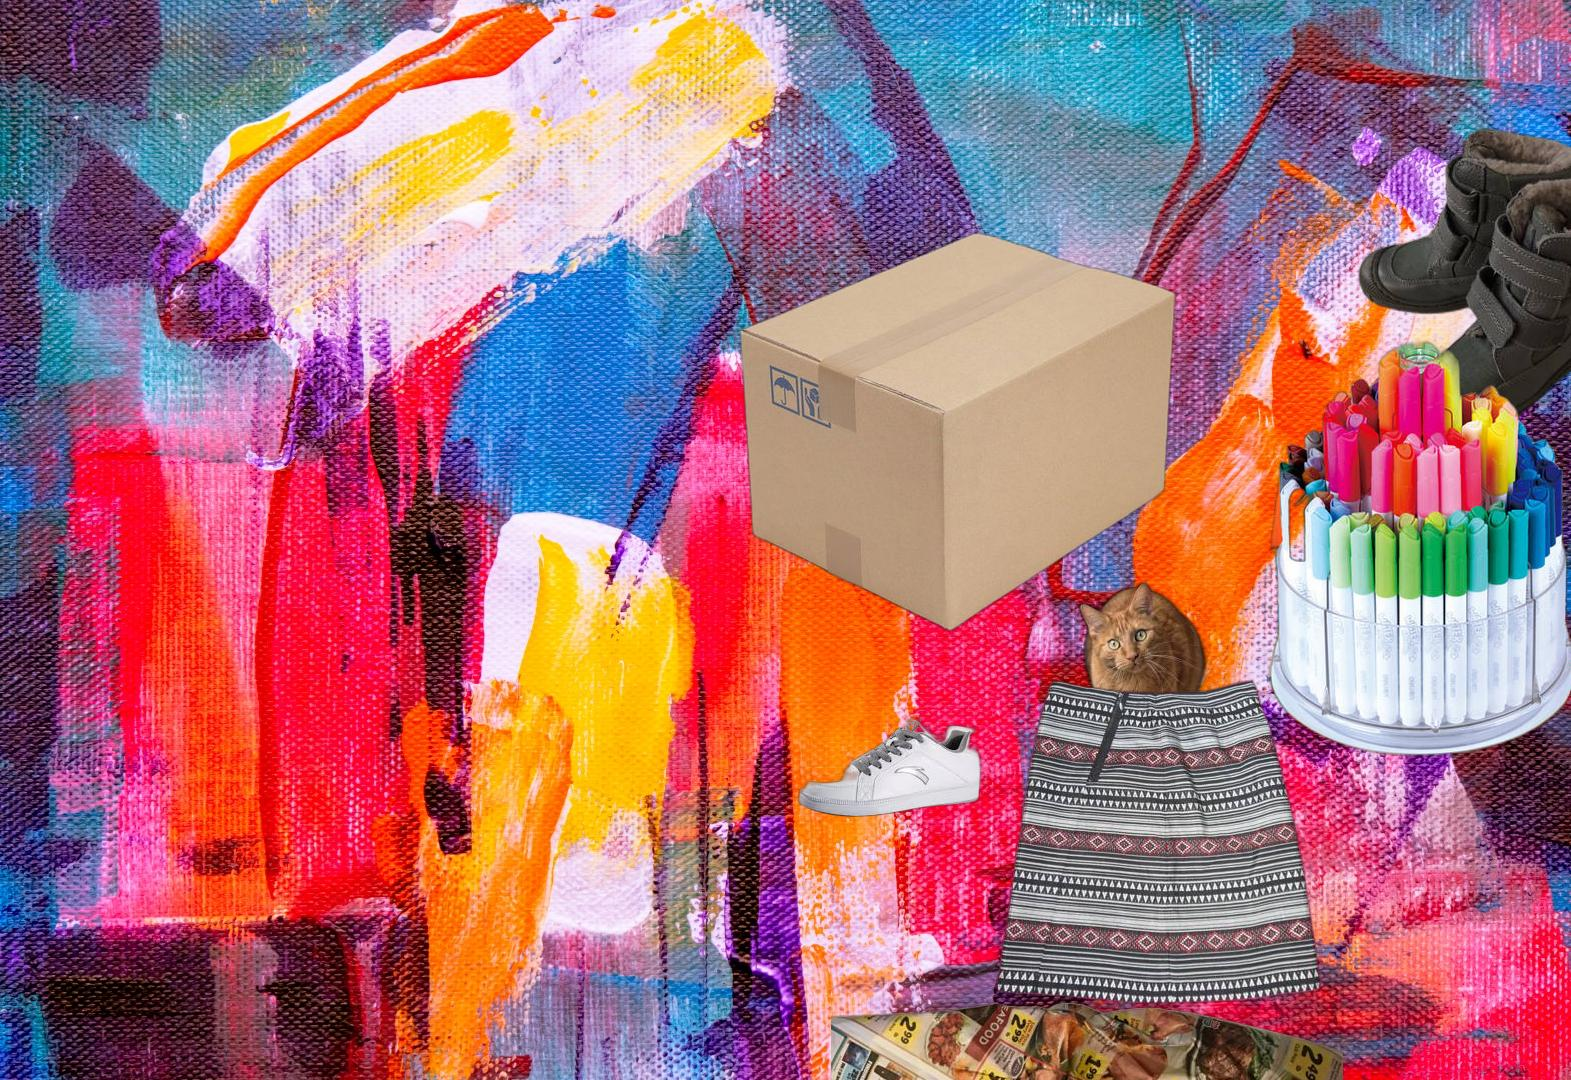clothes: (993, 675, 1325, 1008)
paper: (831, 999, 1343, 1080)
penholder: (1253, 269, 1571, 760)
shoes: (1356, 125, 1571, 448), (795, 716, 984, 819)
trashbox-cardboard: (737, 229, 1179, 634), (953, 449, 1359, 791)
